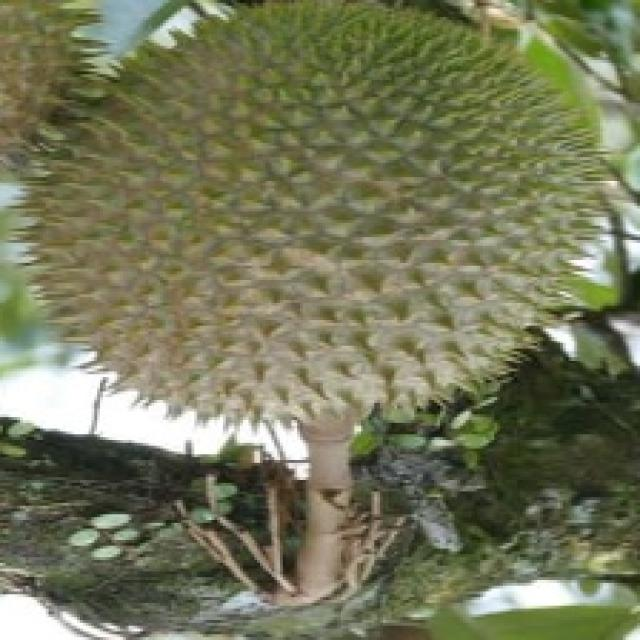d175: (9, 9, 618, 548)
